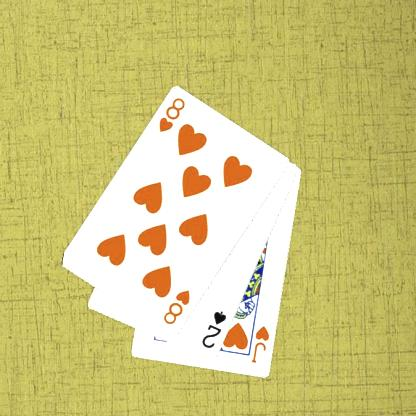2S: (198, 308, 228, 350)
8H: (160, 287, 192, 327), (156, 95, 187, 134)
JH: (249, 323, 271, 365)
